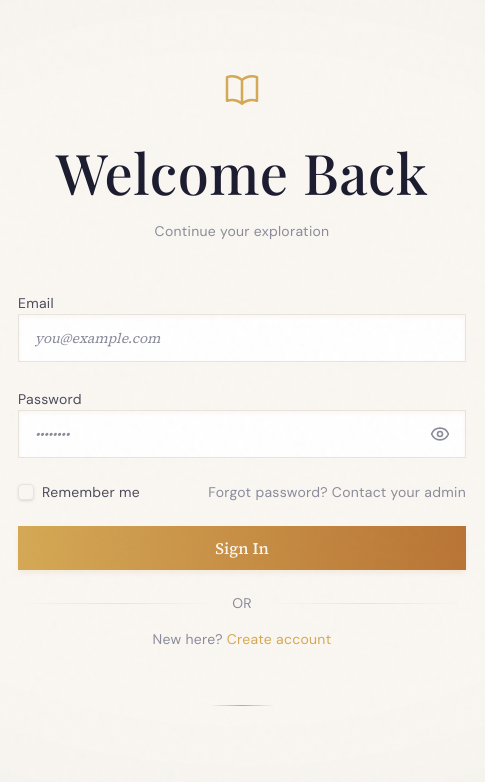
Scenario: LoginPage › Form Submission › should display success message after successful signup
Click the button "New here? Create account" at (242, 638), box [18,620,466,656]
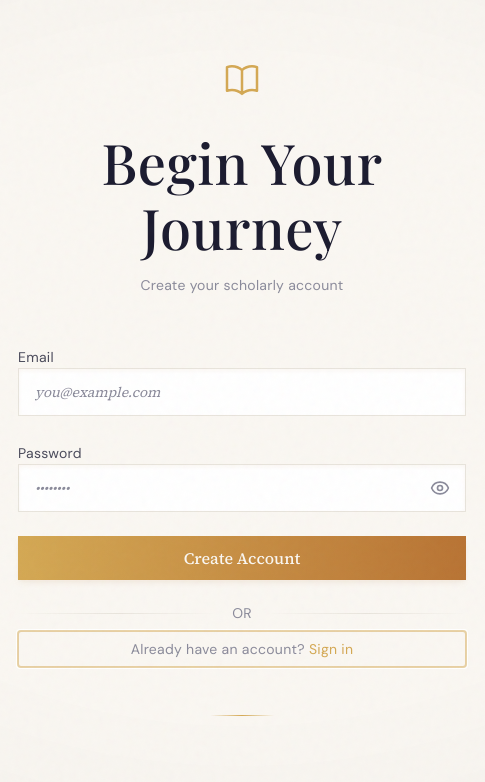
Expected: the heading "Begin Your Journey" is shown, [102,124,382,264]
Type "test@example.com" into the field labelled "Email" at (242, 392), box [18,368,466,416]
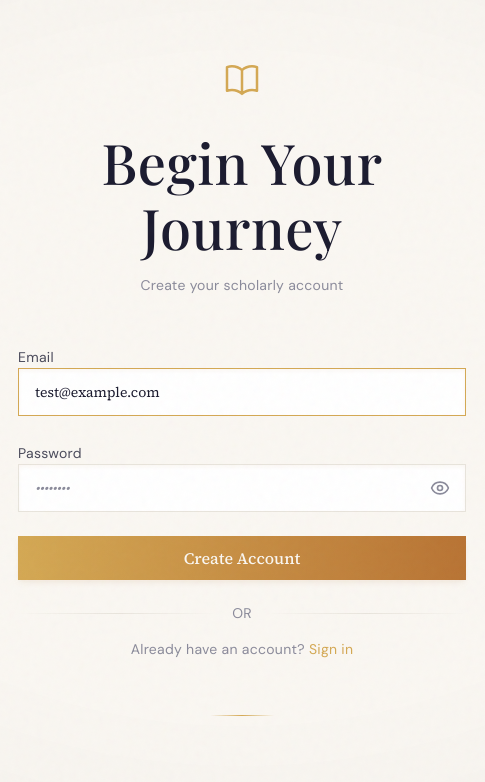
Type "password123" into the password field labelled "Password" at (242, 488), box [18,464,466,512]
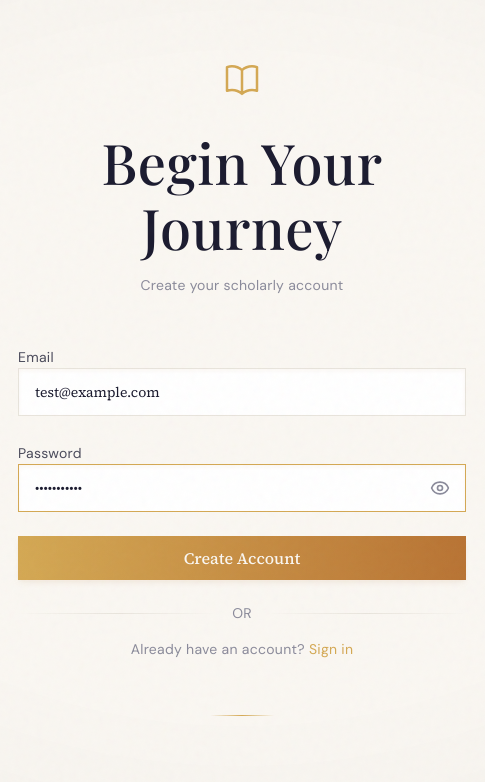
Click the button "Create Account" at (242, 558), box [18,536,466,580]
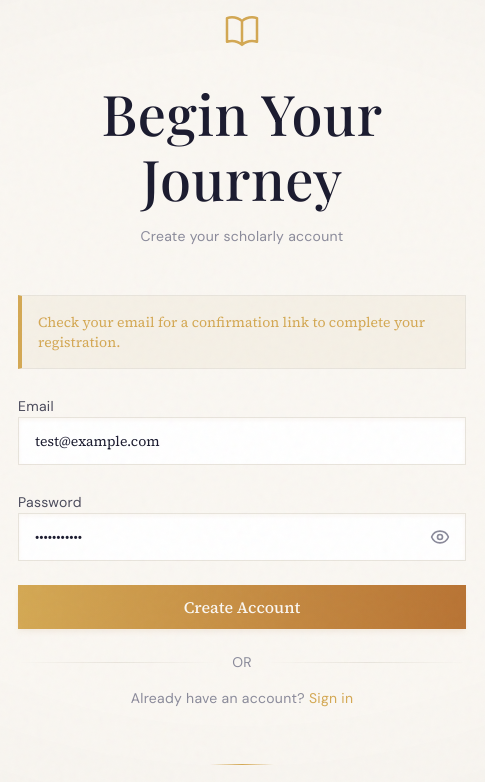
Expected: the text with test id "signup-success" is shown, [18,295,466,369]
Expected: the text "Check your email for a confirmation link" is shown, [38,312,425,352]
